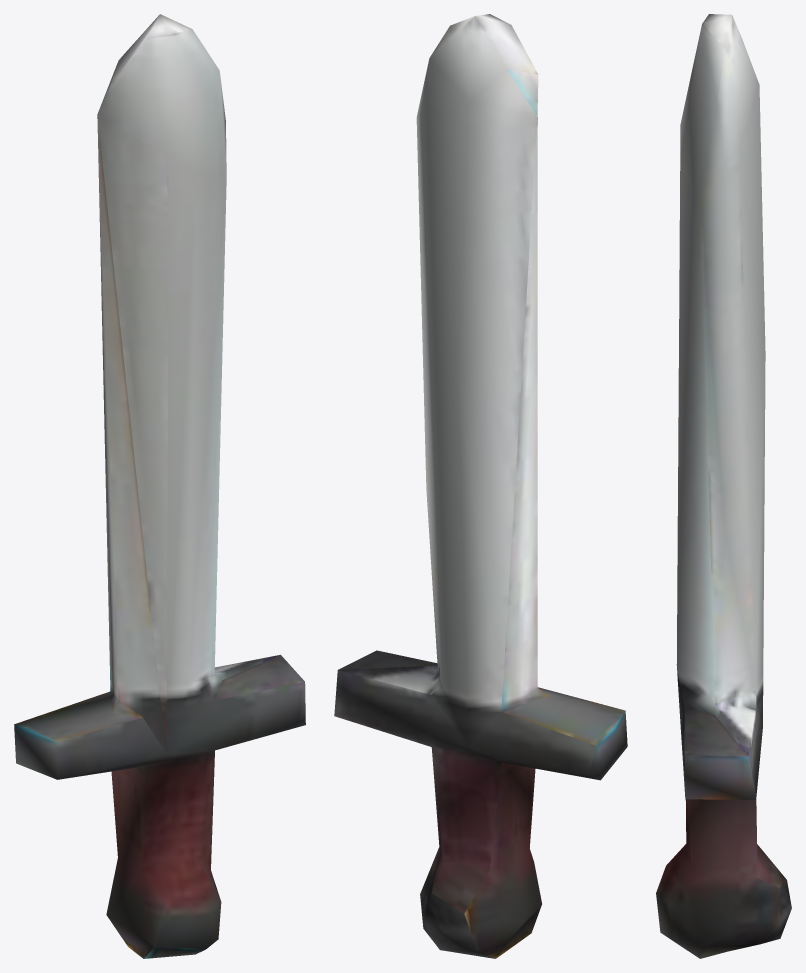
File: sword_iron.glb
The picture shows the model from 3 angles, left to right: view 1: azimuth 30°, elevation 25°; view 2: azimuth 150°, elevation 25°; view 3: azimuth 270°, elevation 25°; orthographic projection.
Visible parts, largest first — view 1: sword1; view 2: sword1; view 3: sword1.
Part boxes in pixels (x1,y1,x2,y2): sword1: (14,14,305,958); sword1: (334,14,627,958); sword1: (656,14,791,958).
Size of the model in its own units: 0.0954 by 0.321 by 0.0423.
1 material, 1 textured.
